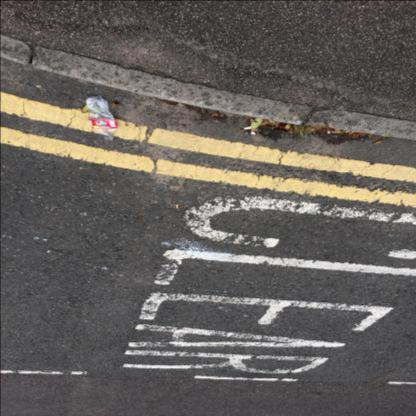Bottle cap: (86, 95, 118, 140)
Cigarette: (176, 204, 178, 208)
